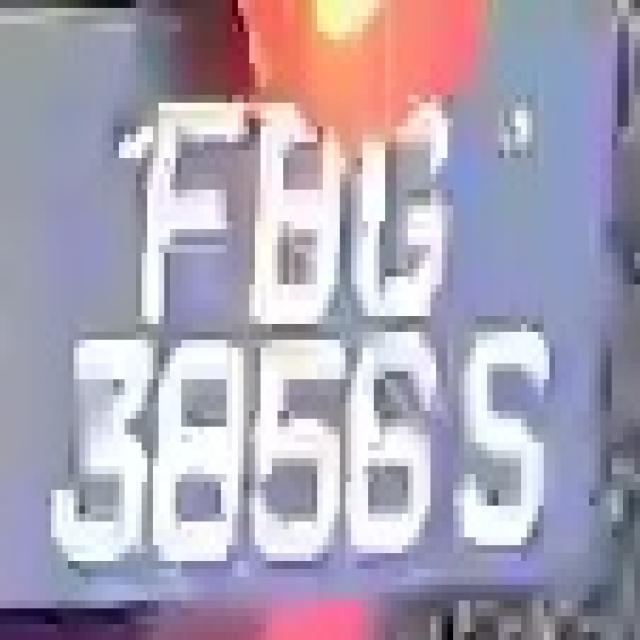3: (57, 324, 153, 600)
5: (244, 308, 346, 569)
6: (340, 316, 436, 561)
8: (158, 324, 244, 569)
B: (243, 87, 340, 340)
F: (130, 64, 238, 364)
G: (357, 95, 447, 332)
S: (459, 292, 549, 569)
